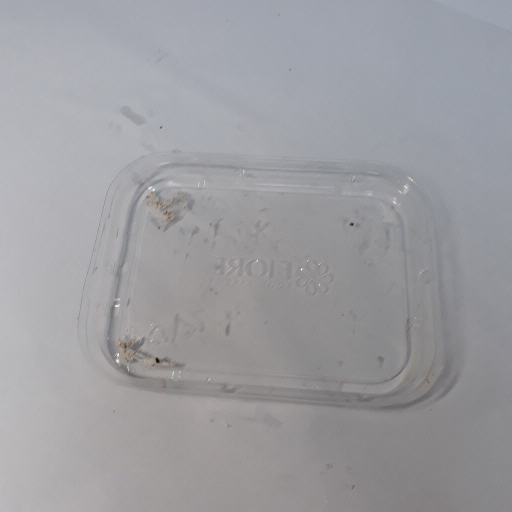Plastic_4: (74, 151, 452, 419)
